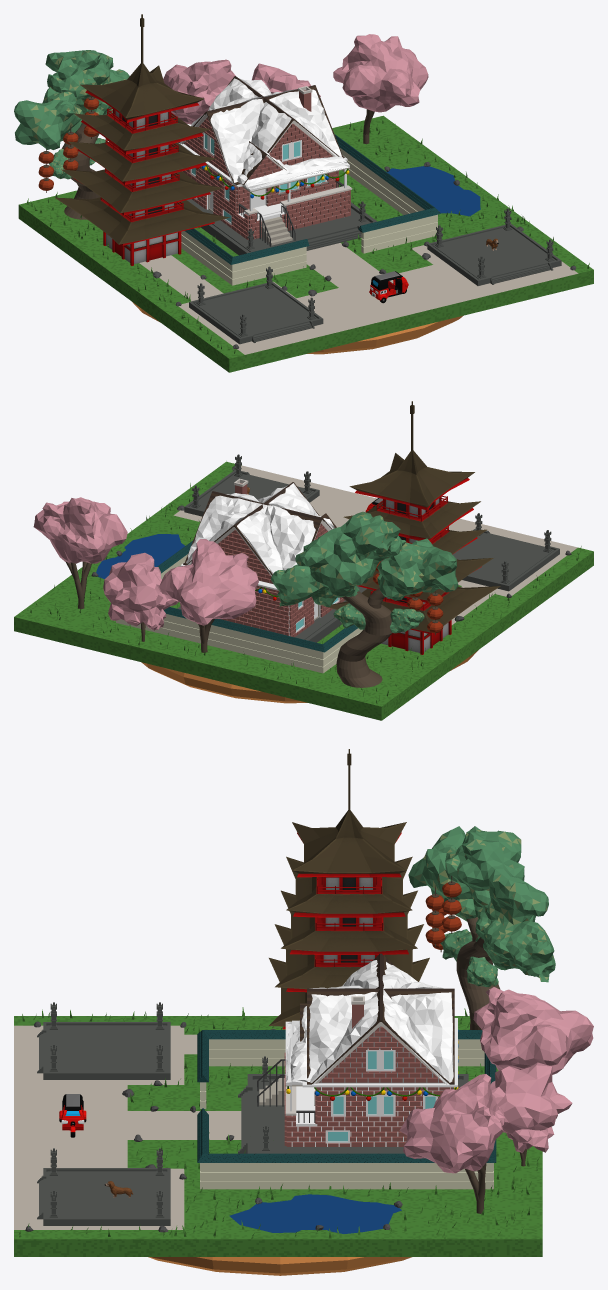
The picture shows the model from 3 angles, top to bottom: view 1: azimuth 30°, elevation 25°; view 2: azimuth 150°, elevation 25°; view 3: azimuth 270°, elevation 25°; orthographic projection. The views are drawn at different scales.
Parts seen in each view (by area): view 1: Cube.005, Cube.1419, UNDERGROUND_PIZZA, VEHICLES_TUC_TUC; view 2: Cube.005, Cube.1419, UNDERGROUND_PIZZA; view 3: Cube.005, Cube.1419, UNDERGROUND_PIZZA, VEHICLES_TUC_TUC.
Part boxes in pixels (box(x1,y1,x2,y2)): Cube.005: box(14, 14, 593, 372); Cube.1419: box(177, 76, 352, 246); UNDERGROUND_PIZZA: box(132, 302, 463, 354); VEHICLES_TUC_TUC: box(369, 271, 408, 303); Cube.005: box(14, 401, 593, 720); Cube.1419: box(180, 478, 344, 637); UNDERGROUND_PIZZA: box(141, 650, 478, 703); Cube.005: box(14, 749, 593, 1256); Cube.1419: box(257, 953, 458, 1146); UNDERGROUND_PIZZA: box(148, 1257, 411, 1275); VEHICLES_TUC_TUC: box(59, 1094, 86, 1137).
Bounding box in the file's own units: 4528 × 2902 × 4389.
Materials: 48 (5 with a texture image).
